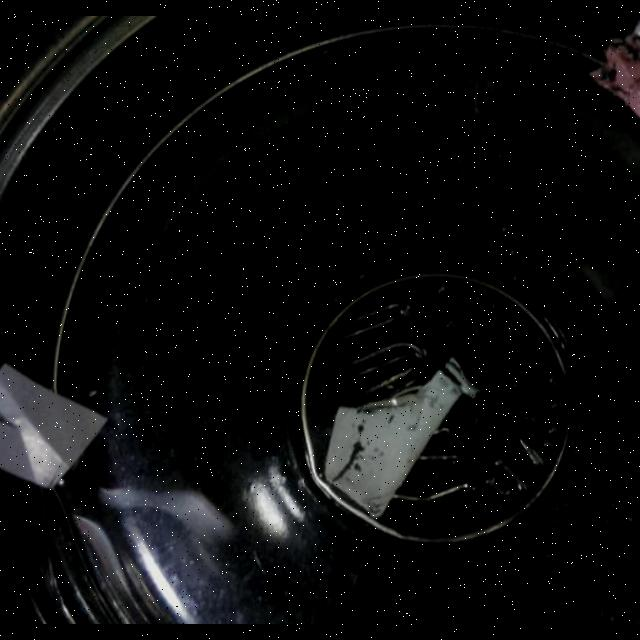Fragment: (322, 354, 480, 518), (0, 360, 110, 490), (588, 16, 640, 169)
